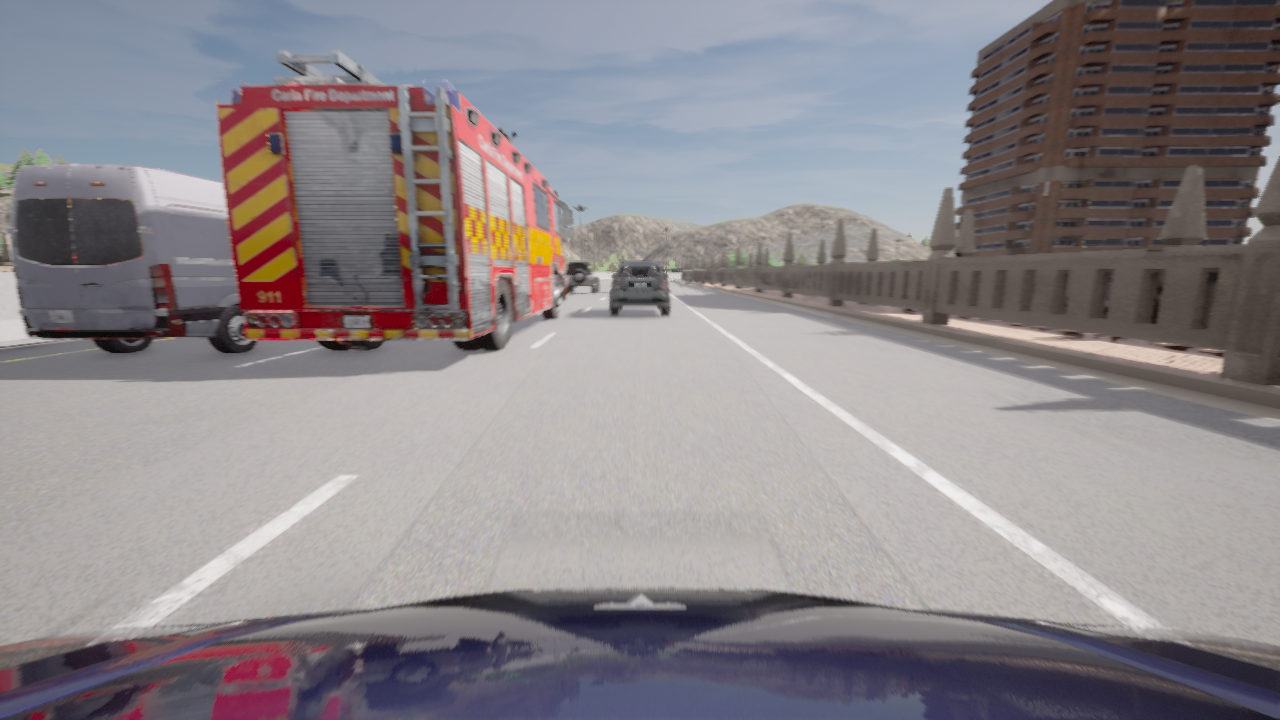cyclist: (0, 588, 1279, 719), (215, 50, 572, 350), (6, 165, 258, 353), (610, 261, 669, 315), (565, 261, 598, 293)
